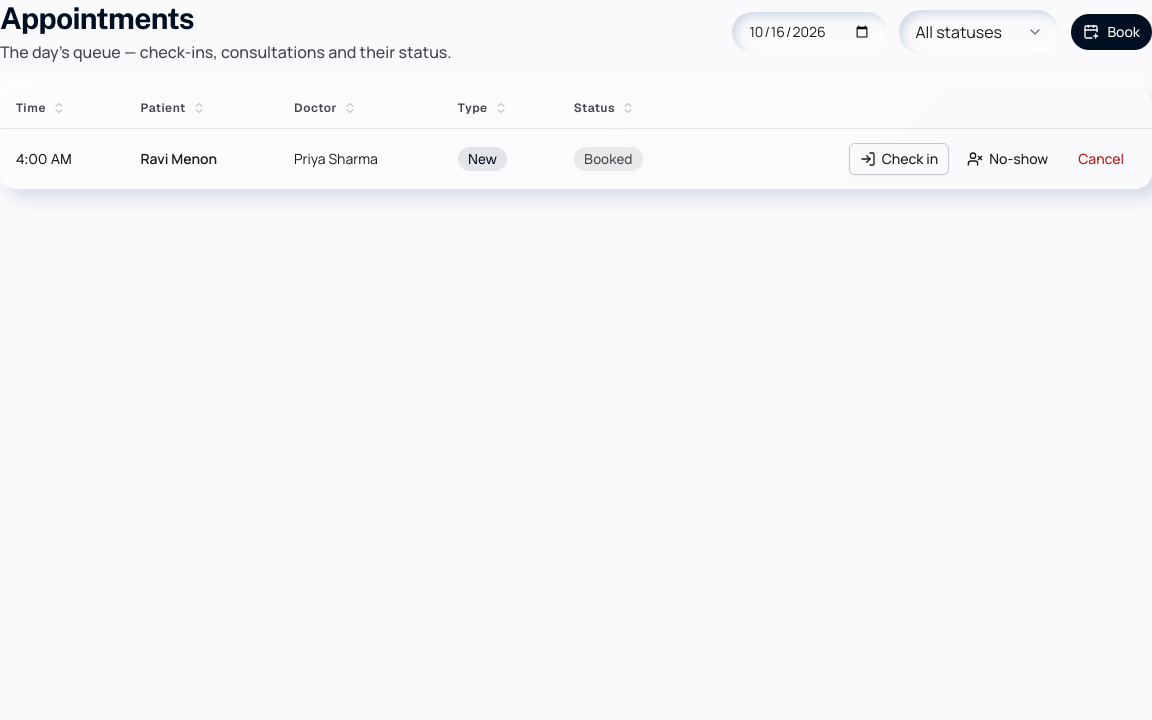
Test: when the server refuses a no-show › 400, the consultation has started: says so and refreshes the row
Click the button "No-show" at (1008, 159), box [957,143,1058,175]
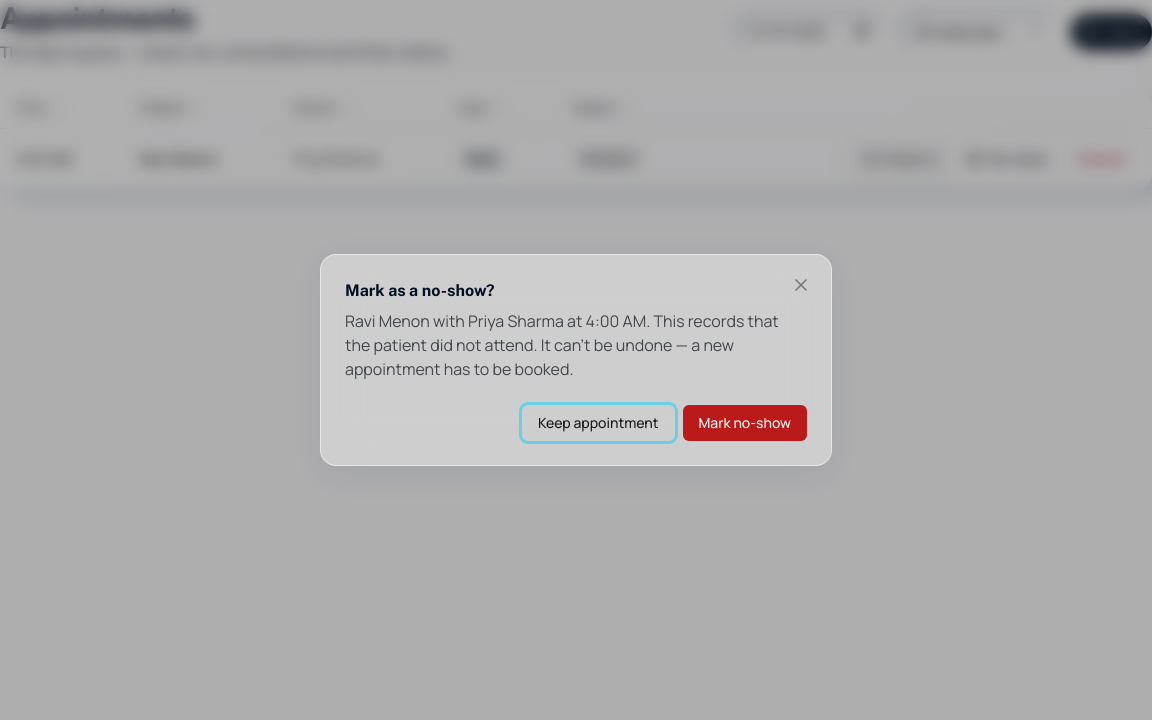
Click the button "Mark no-show" at (745, 423), box [682,405,807,441]
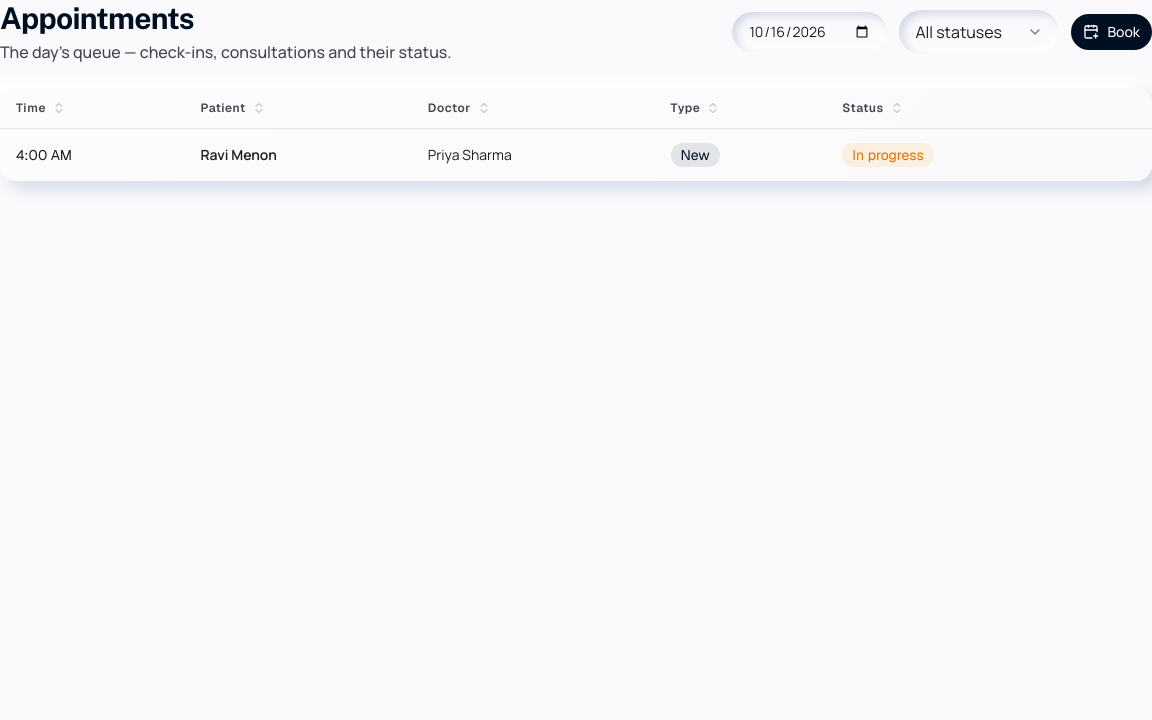
Expected: the button "as a no-show" is not shown
Expected: the text "In progress" is shown, [842,143,934,167]
